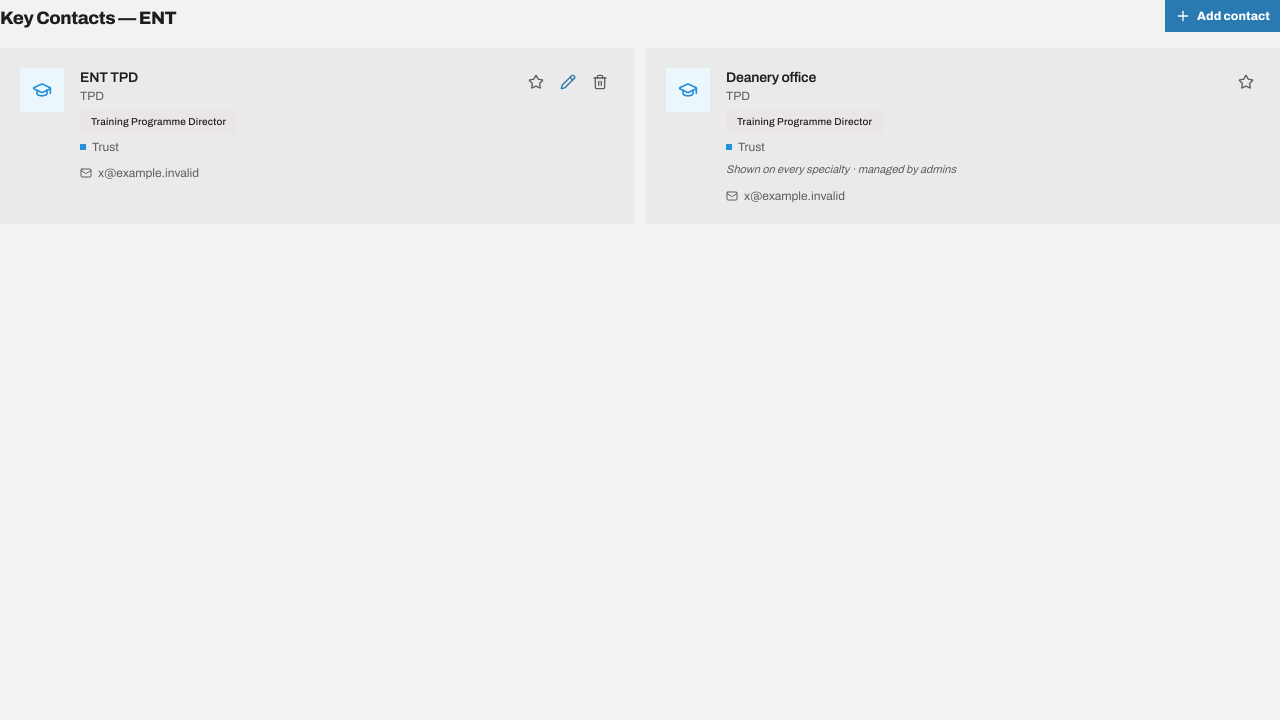
Test case: SpecialtyContacts › opens the form filled in when editing
Click the button named "Edit ENT TPD": (568, 82) [554,68,582,96]
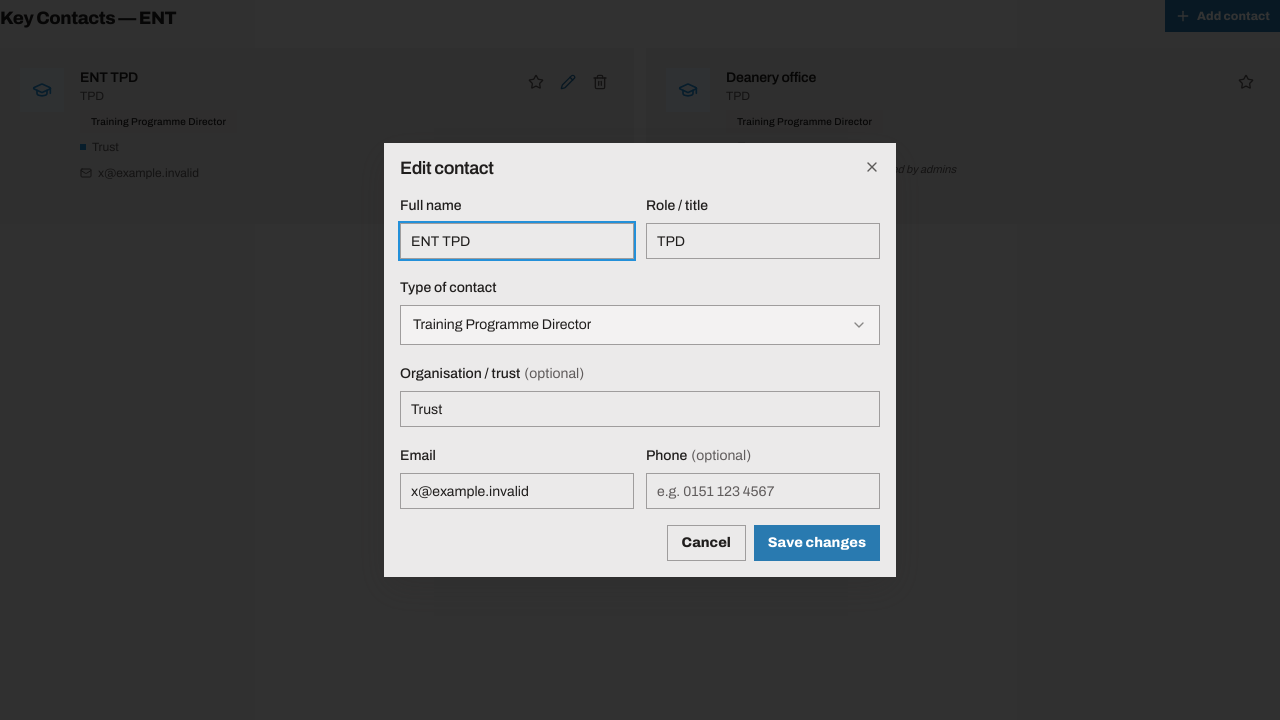
Expected: the field labelled "Full name" holds "ENT TPD", [400,223,634,259]
